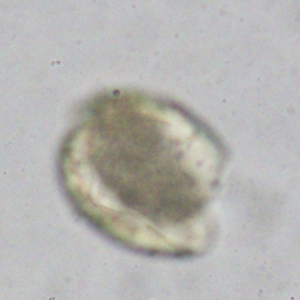Fasciola_hepatica_egg: (56, 87, 233, 260)
